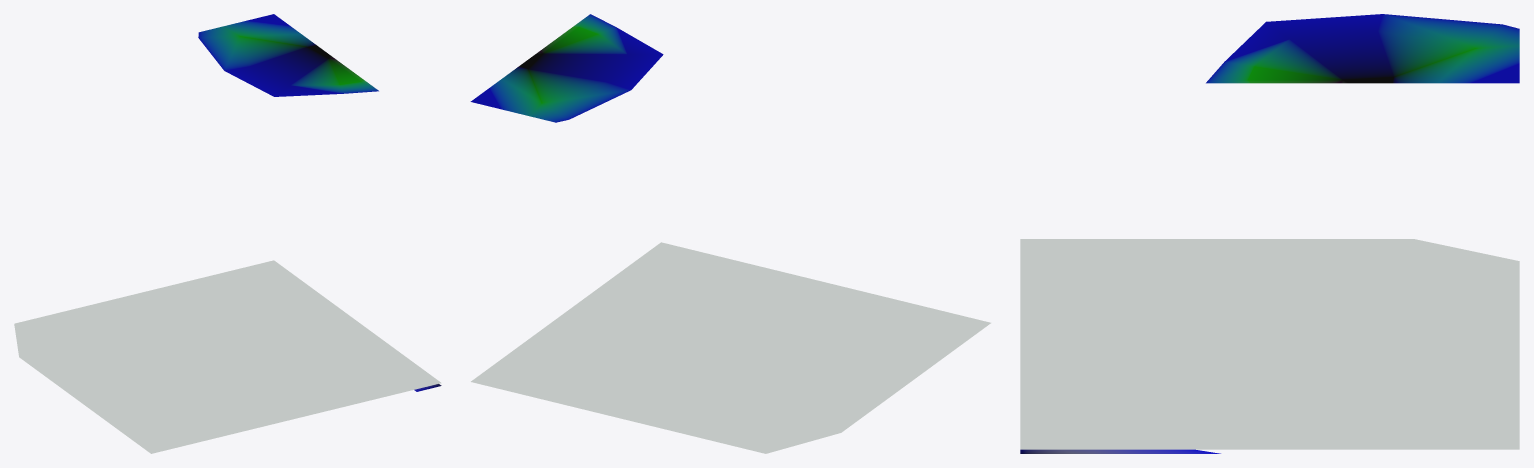
The picture shows the model from 3 angles, left to right: view 1: azimuth 30°, elevation 25°; view 2: azimuth 150°, elevation 25°; view 3: azimuth 270°, elevation 25°; orthographic projection. The views are drawn at different scales.
Parts seen in each view (by area): view 1: G:\FFXIV-MapTools\exports\w1f5\bg\ffxiv\wil_w1\fld\w1f5\bgpl (×2); view 2: G:\FFXIV-MapTools\exports\w1f5\bg\ffxiv\wil_w1\fld\w1f5\bgpl (×2); view 3: G:\FFXIV-MapTools\exports\w1f5\bg\ffxiv\wil_w1\fld\w1f5\bgpl (×2).
Boxes of the visible parts, x1,y1,x2,y2 form: G:\FFXIV-MapTools\exports\w1f5\bg\ffxiv\wil_w1\fld\w1f5\bgpl (×2): (14,14,441,453); G:\FFXIV-MapTools\exports\w1f5\bg\ffxiv\wil_w1\fld\w1f5\bgpl (×2): (470,14,990,453); G:\FFXIV-MapTools\exports\w1f5\bg\ffxiv\wil_w1\fld\w1f5\bgpl (×2): (1020,14,1519,453).
Size of the model in its own units: 128 by 105 by 128.
